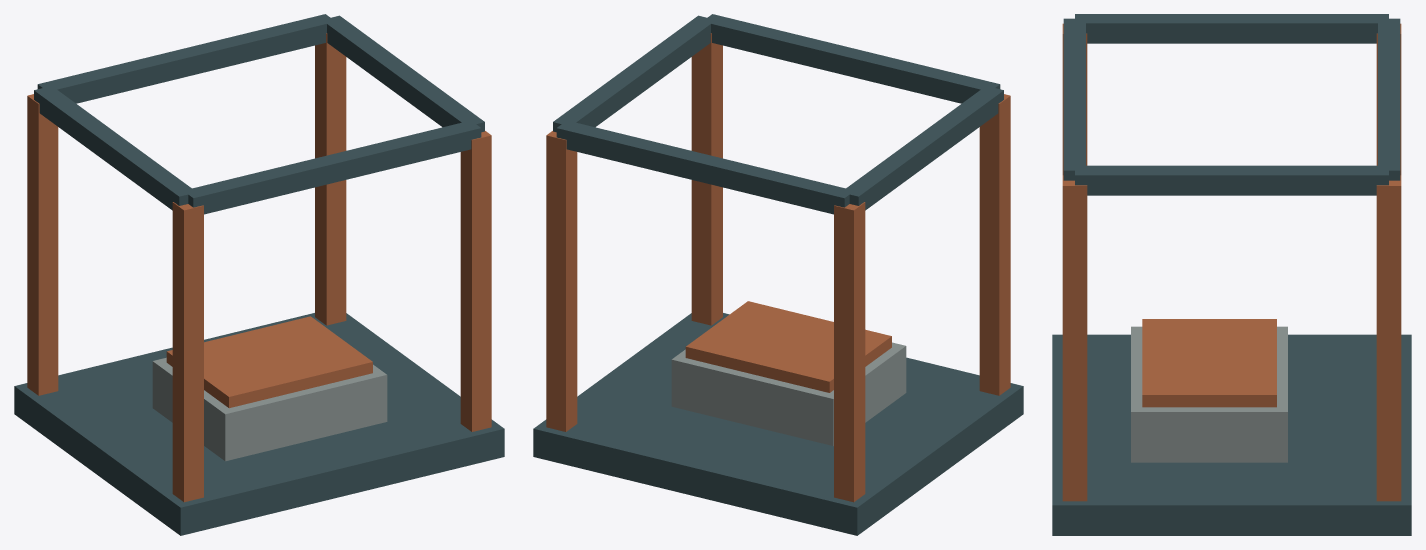
File: galley_site.gltf
3 views of the same model, side by side, from view 1: azimuth 30°, elevation 25°; view 2: azimuth 150°, elevation 25°; view 3: azimuth 270°, elevation 25° (orthographic). The views are drawn at different scales.
Parts seen in each view (by area): view 1: floor, plate_stack, plate_top, post_b, post_d, post_a, beam_back, beam_front, post_c, beam_left, beam_right; view 2: floor, plate_stack, plate_top, post_a, post_c, post_b, beam_front, beam_back, post_d, beam_left, beam_right; view 3: floor, plate_top, plate_stack, beam_right, beam_left, post_c, post_d, beam_front, beam_back, post_a, post_b.
Part boxes in pixels (x1=…): floor: x1=14, y1=313, x2=504, y2=535; plate_stack: x1=152, y1=357, x2=387, y2=461; plate_top: x1=166, y1=316, x2=372, y2=408; post_b: x1=172, y1=202, x2=203, y2=502; post_d: x1=460, y1=131, x2=491, y2=431; post_a: x1=27, y1=94, x2=58, y2=395; beam_back: x1=184, y1=120, x2=481, y2=214; beam_front: x1=37, y1=14, x2=335, y2=103; post_c: x1=315, y1=33, x2=346, y2=325; beam_left: x1=34, y1=88, x2=196, y2=210; beam_right: x1=325, y1=15, x2=484, y2=132; floor: x1=533, y1=313, x2=1023, y2=535; plate_stack: x1=671, y1=342, x2=906, y2=445; plate_top: x1=685, y1=301, x2=891, y2=392; post_a: x1=834, y1=202, x2=865, y2=502; post_c: x1=546, y1=131, x2=577, y2=431; post_b: x1=979, y1=94, x2=1010, y2=395; beam_front: x1=556, y1=120, x2=854, y2=214; beam_back: x1=702, y1=14, x2=1000, y2=103; post_d: x1=691, y1=33, x2=722, y2=325; beam_left: x1=841, y1=88, x2=1003, y2=210; beam_right: x1=553, y1=15, x2=714, y2=132; floor: x1=1052, y1=334, x2=1411, y2=535; plate_top: x1=1142, y1=319, x2=1276, y2=407; plate_stack: x1=1131, y1=326, x2=1287, y2=462; beam_right: x1=1075, y1=165, x2=1388, y2=195; beam_left: x1=1075, y1=14, x2=1388, y2=43; post_c: x1=1376, y1=175, x2=1401, y2=501; post_d: x1=1062, y1=175, x2=1087, y2=501; beam_front: x1=1378, y1=18, x2=1400, y2=180; beam_back: x1=1063, y1=18, x2=1085, y2=180; post_a: x1=1376, y1=23, x2=1401, y2=175; post_b: x1=1062, y1=23, x2=1087, y2=175.
Bounding box in the file's own units: 3.6 × 3.5 × 3.2.
